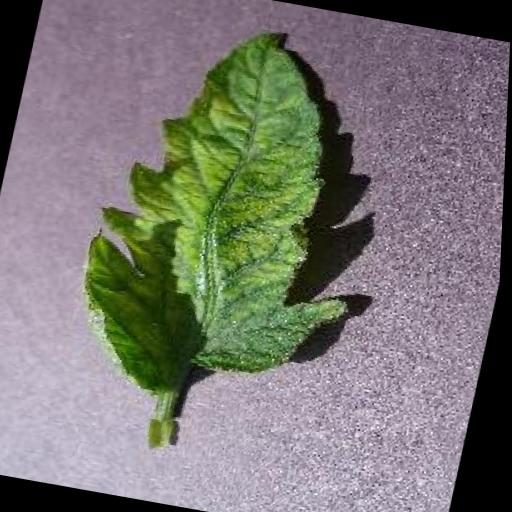Mosaic Virus: (59, 7, 407, 423)
